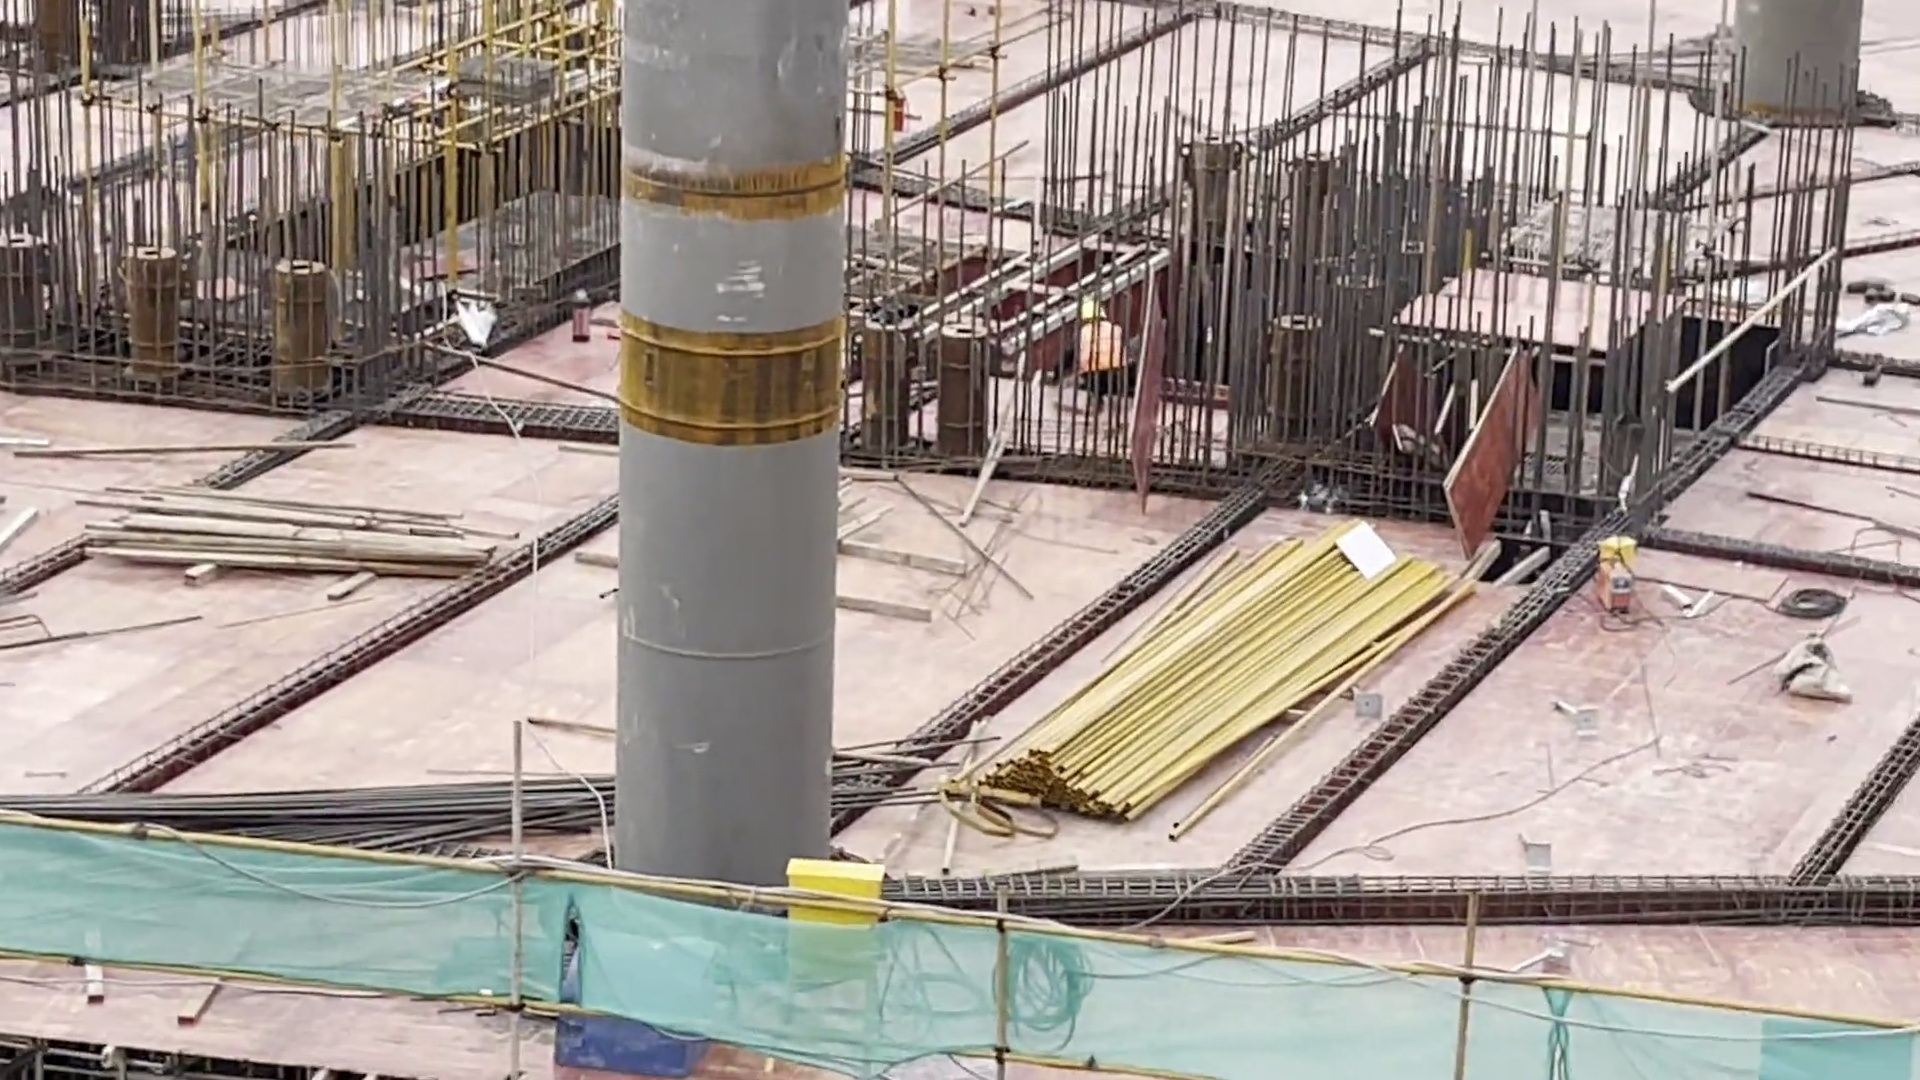ebox: (784, 859, 886, 1039)
person: (1069, 296, 1129, 388)
